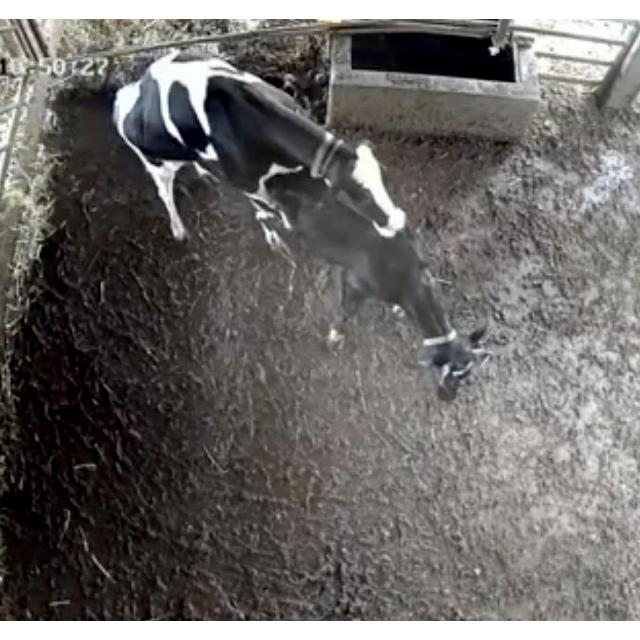ride: (98, 41, 422, 266)
